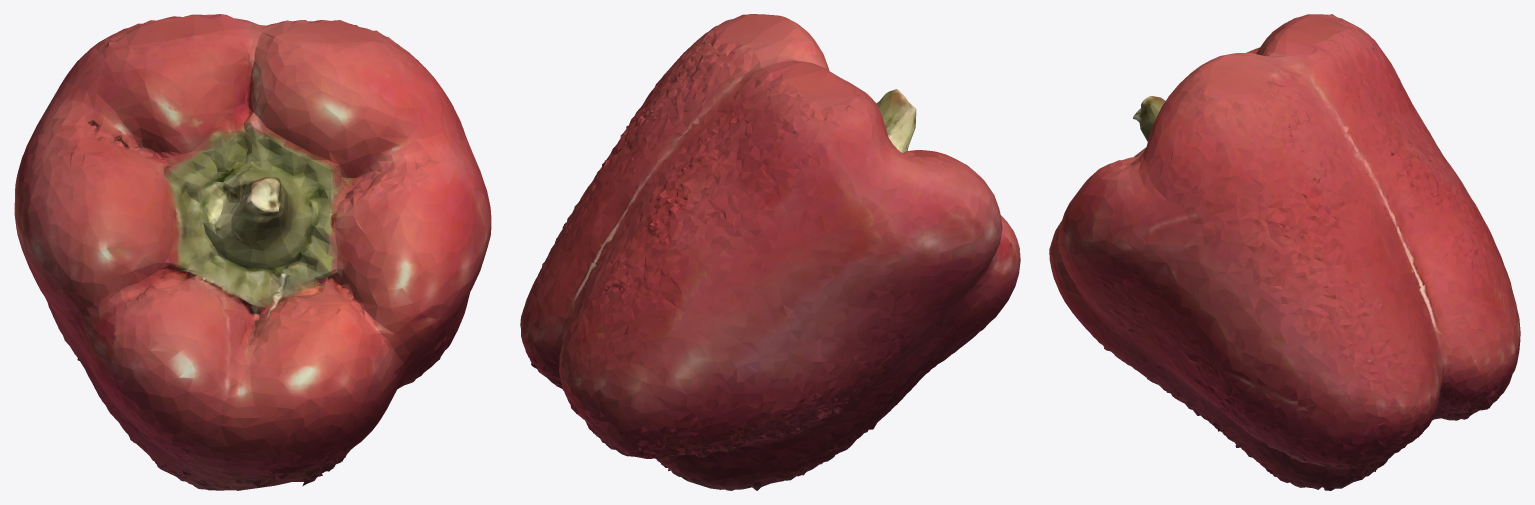
Rendered from Paprika.fbx.
3 renders of one model, left to right at view 1: azimuth 30°, elevation 25°; view 2: azimuth 150°, elevation 25°; view 3: azimuth 270°, elevation 25°, orthographic. The views are drawn at different scales.
Visible parts, largest first — view 1: Paprika_tex_high; view 2: Paprika_tex_high; view 3: Paprika_tex_high.
Boxes of the visible parts, bbox=[...] form: Paprika_tex_high: bbox=[14, 14, 491, 490]; Paprika_tex_high: bbox=[520, 14, 1020, 490]; Paprika_tex_high: bbox=[1049, 14, 1520, 490].
Bounding box in the file's own units: 9.76 × 9.47 × 10.03.
